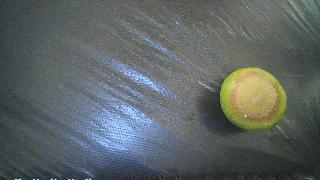DESECHO: (220, 68, 287, 130)
